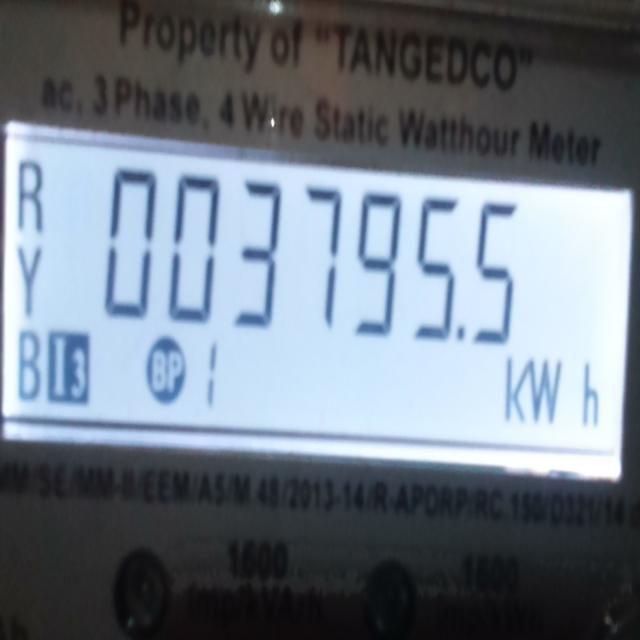.: (458, 322, 465, 341)
0: (173, 175, 217, 323), (109, 168, 151, 319)
3: (236, 176, 281, 328)
5: (419, 195, 455, 342), (476, 205, 510, 341)
7: (304, 185, 338, 324)
9: (357, 194, 398, 336)
